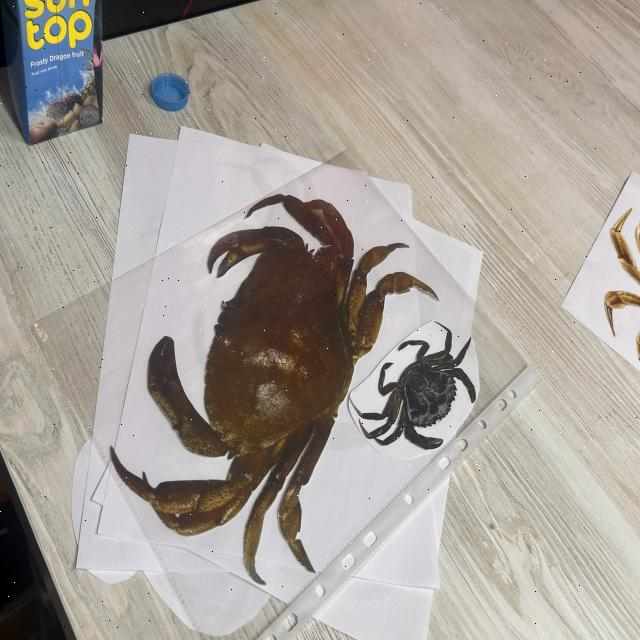European_Green_Crab: (345, 296, 500, 491)
